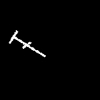double_crochet: (9, 31, 44, 56)
